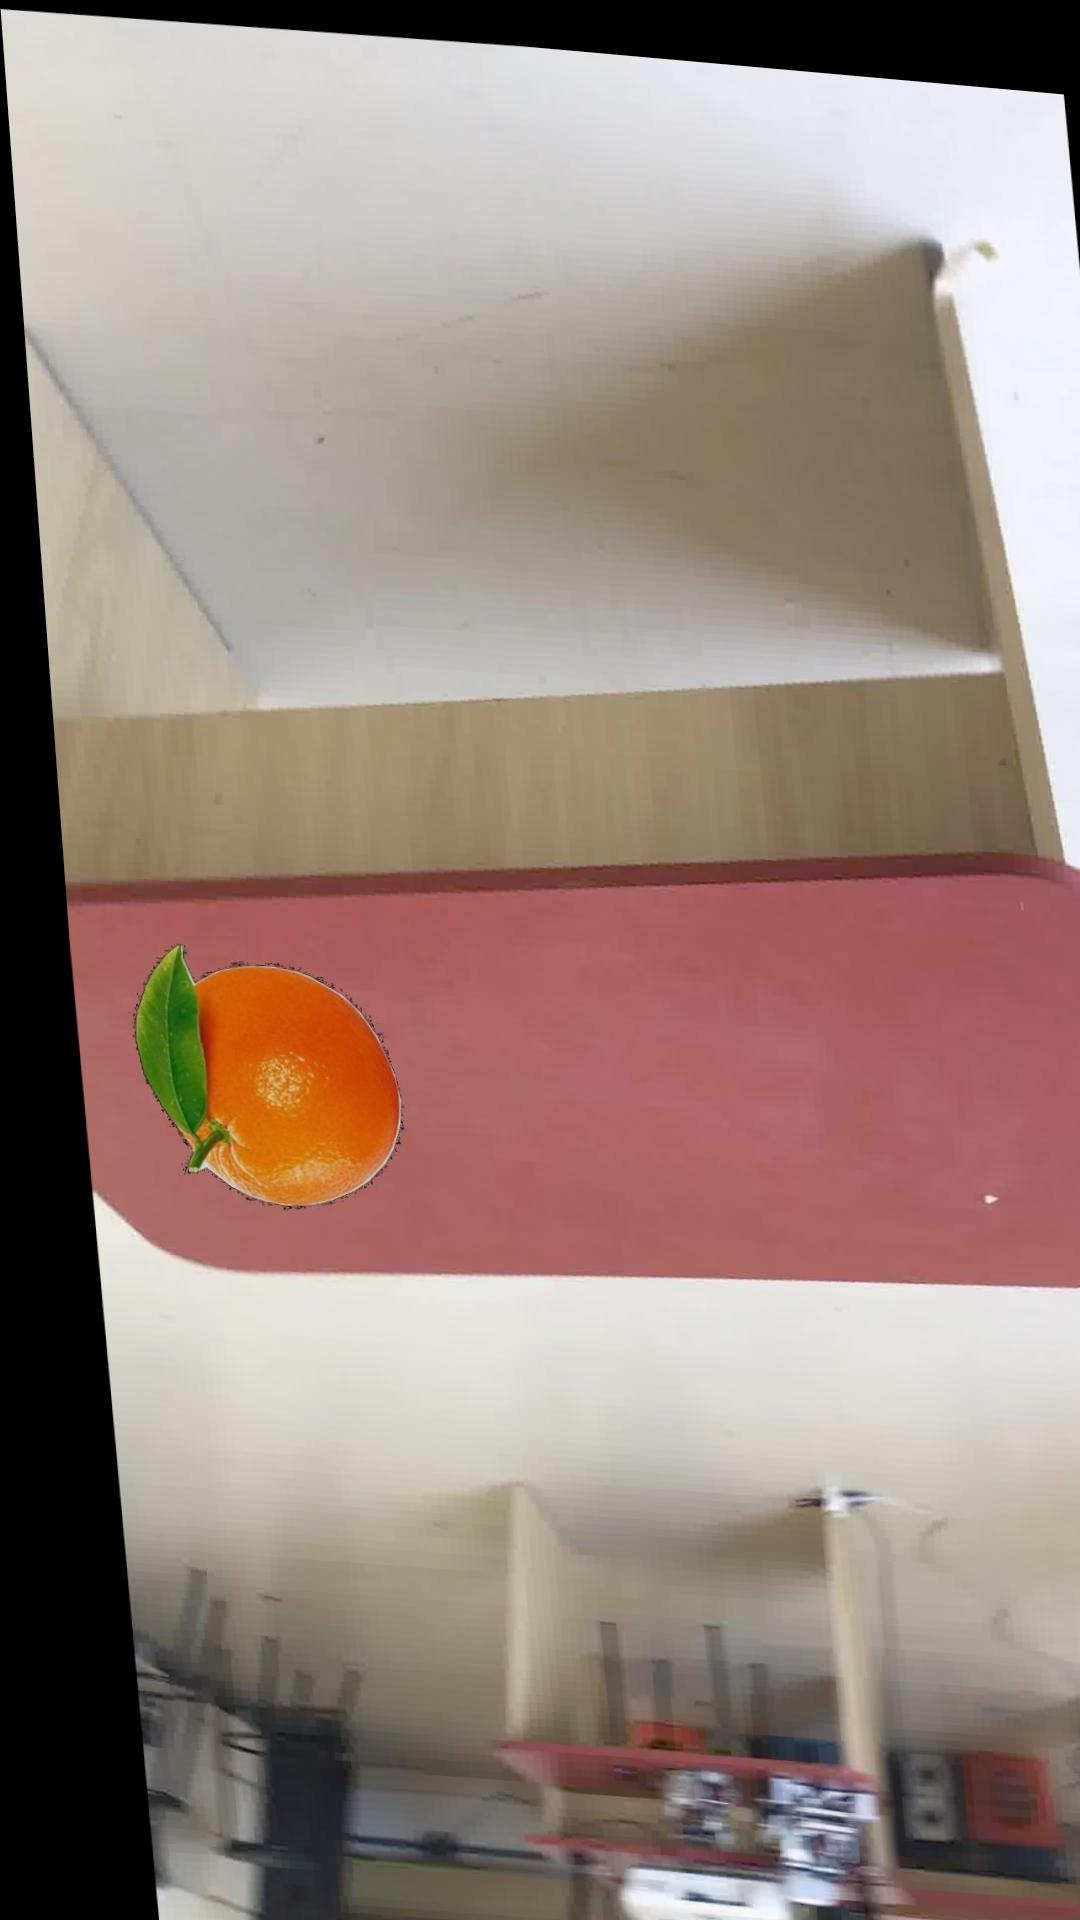orange: (119, 944, 389, 1207)
